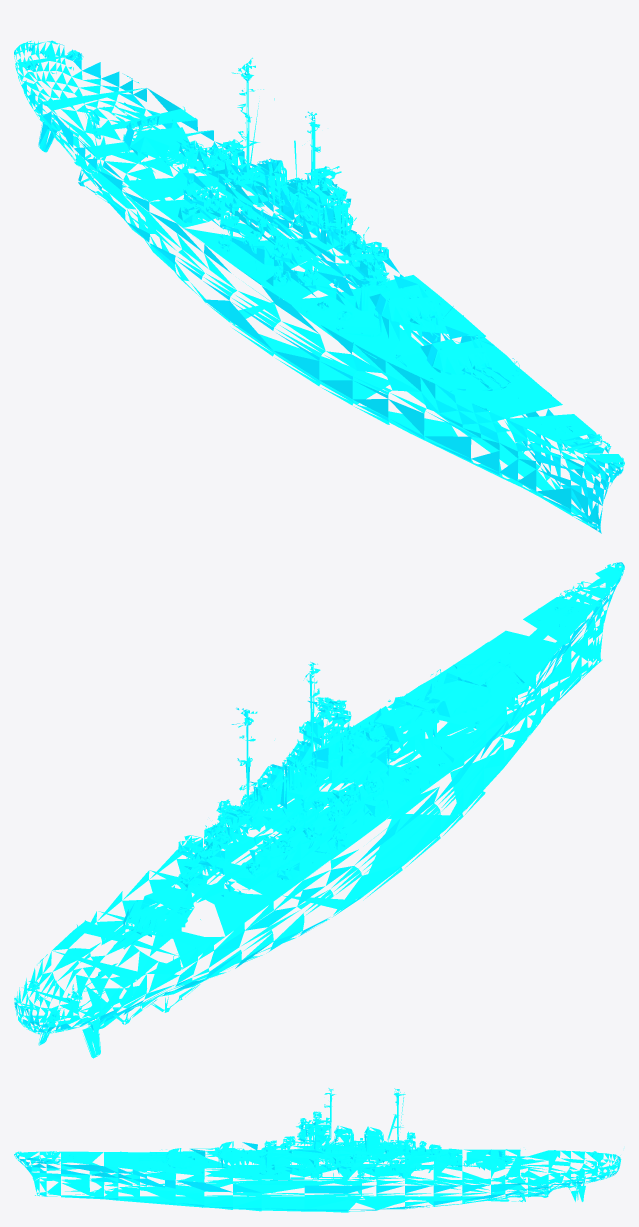
File: Admiral_Ushakov.glb
3 views of the same model, one above another, from view 1: azimuth 30°, elevation 25°; view 2: azimuth 150°, elevation 25°; view 3: azimuth 270°, elevation 25° (orthographic). The views are drawn at different scales.
Size of the model in its own units: 2.91 by 4.47 by 22.73.
